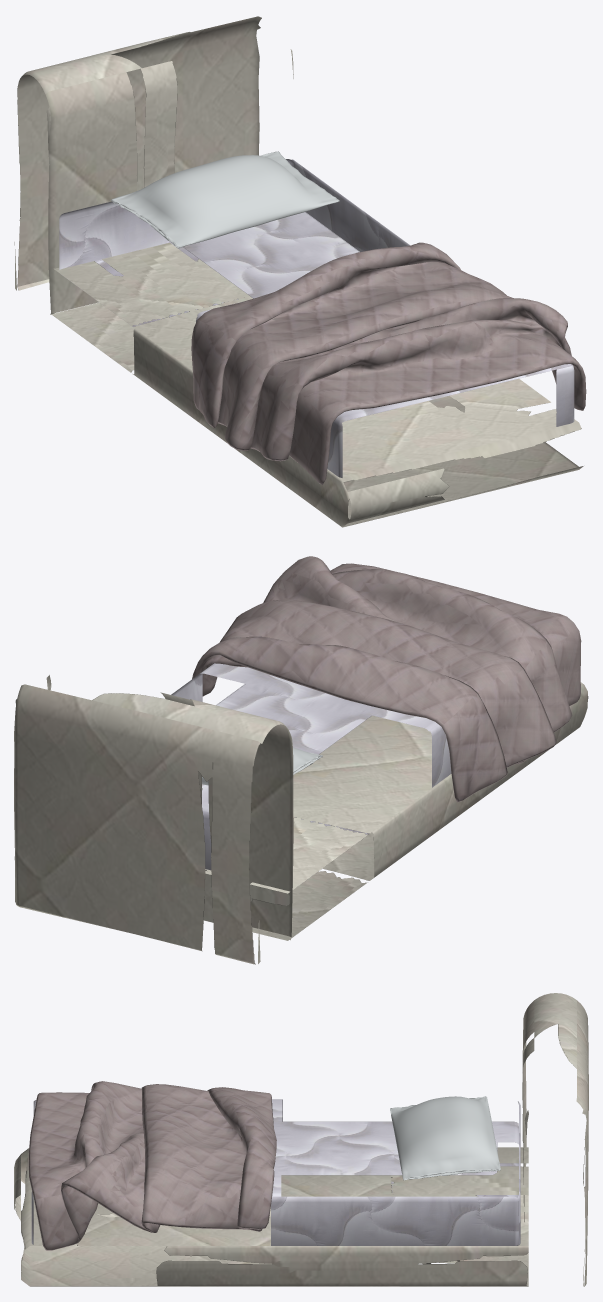
Rendered from bed.fbx.
3 renders of one model, top to bottom at view 1: azimuth 30°, elevation 25°; view 2: azimuth 150°, elevation 25°; view 3: azimuth 270°, elevation 25°, orthographic. The views are drawn at different scales.
Visible parts, largest first — view 1: bed.104; view 2: bed.104; view 3: bed.104.
Part boxes in pixels (bbox=[...]): bed.104: bbox=[14, 16, 586, 527]; bed.104: bbox=[14, 556, 588, 964]; bed.104: bbox=[14, 993, 588, 1286].
Size of the model in its own units: 134 by 92.53 by 245.
